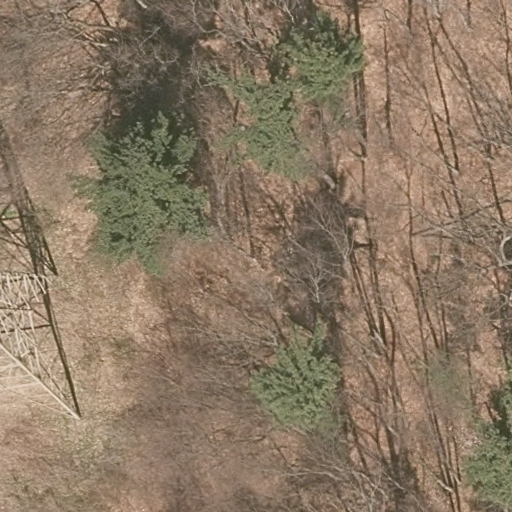TT: (1, 267, 82, 421)
